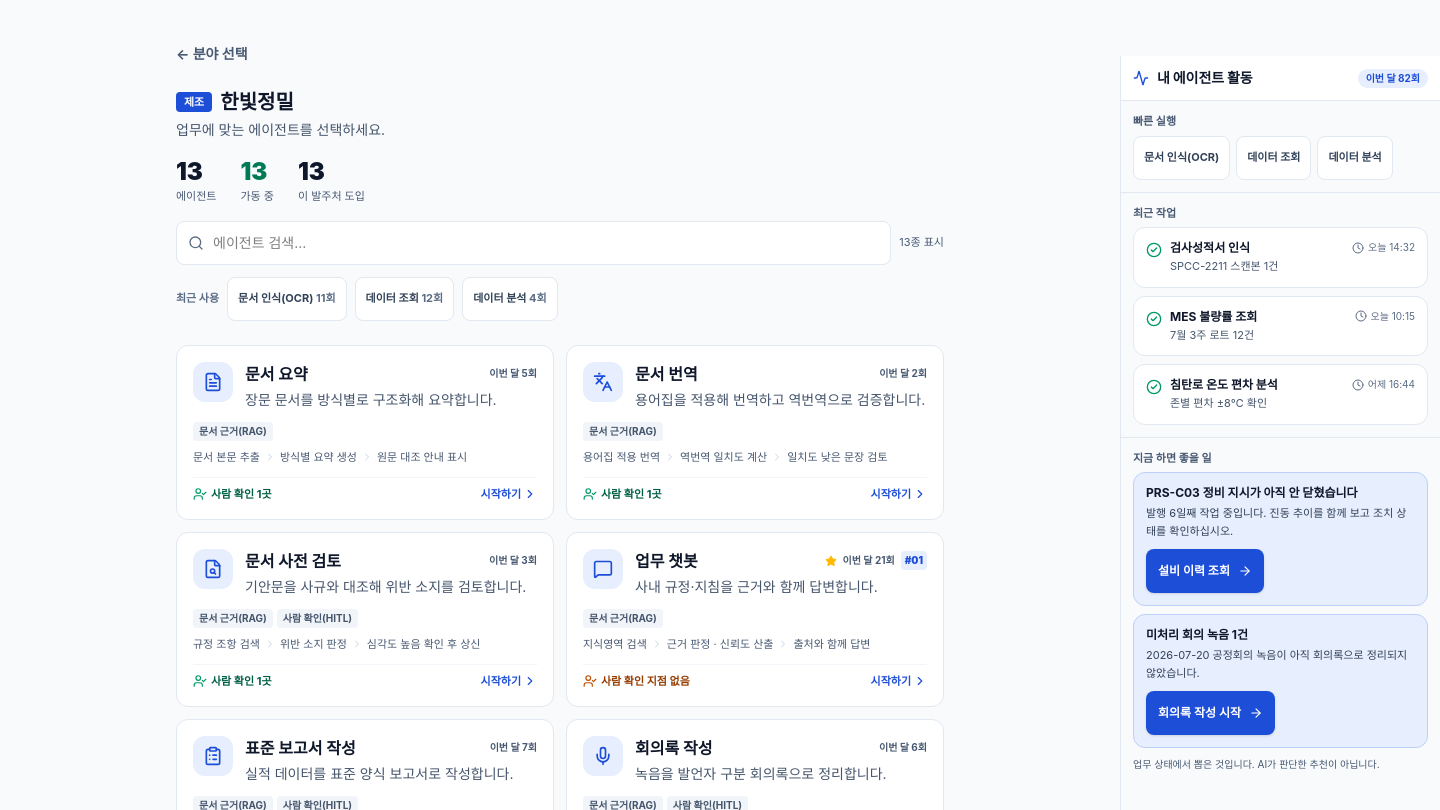
HubPage › 검색이 목록을 실제로 좁힌다
Check: the text "13종 표시" is shown, box top-left (899, 234), bottom-right (944, 251)
In the field labelled "에이전트 검색": (534, 242) top-left (176, 220), bottom-right (891, 264), type "번역"
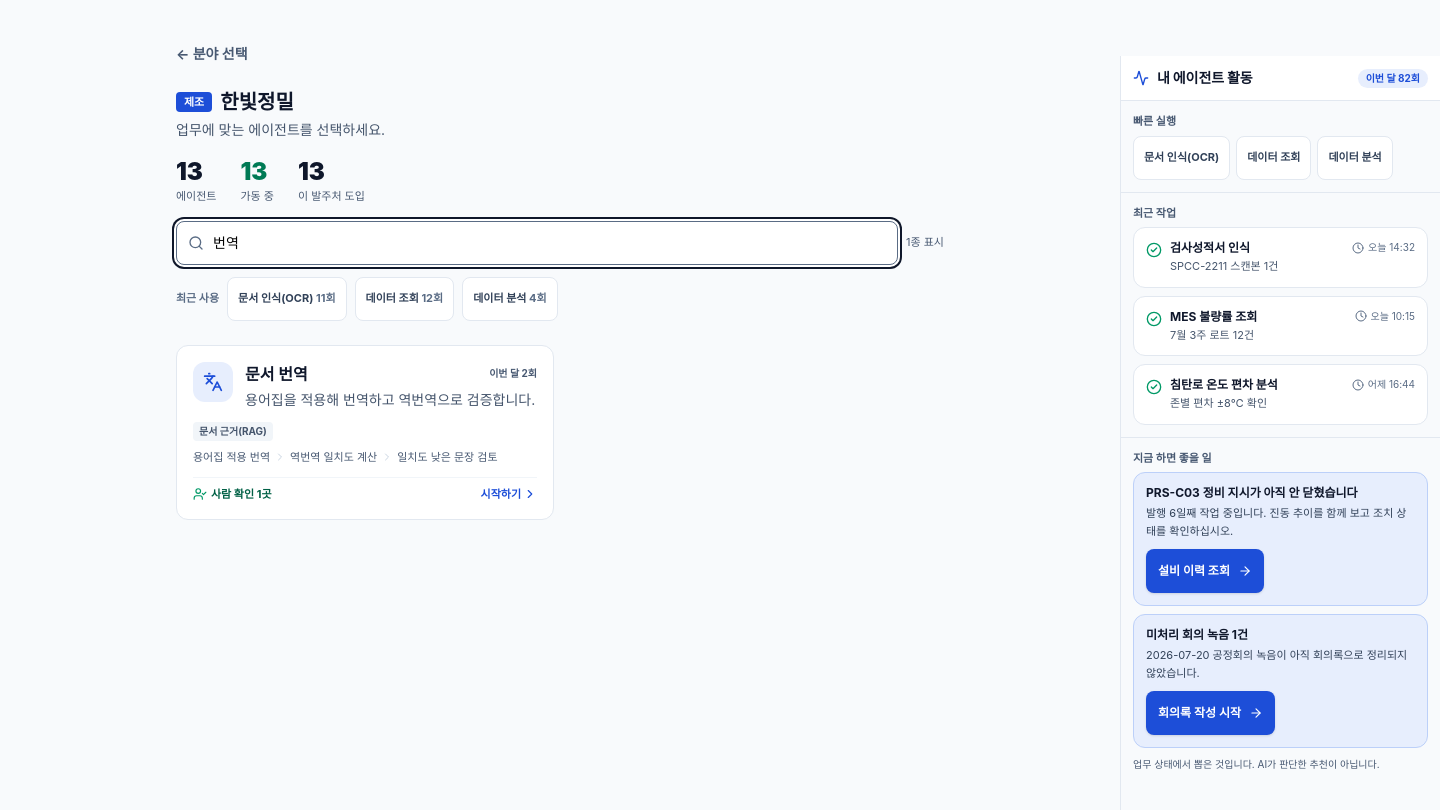
Check: the text "1종 표시" is shown, box top-left (906, 234), bottom-right (944, 251)
Check: the button "문서 요약" is gone
